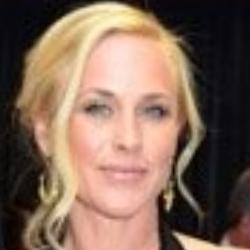face: (12, 2, 205, 235)
